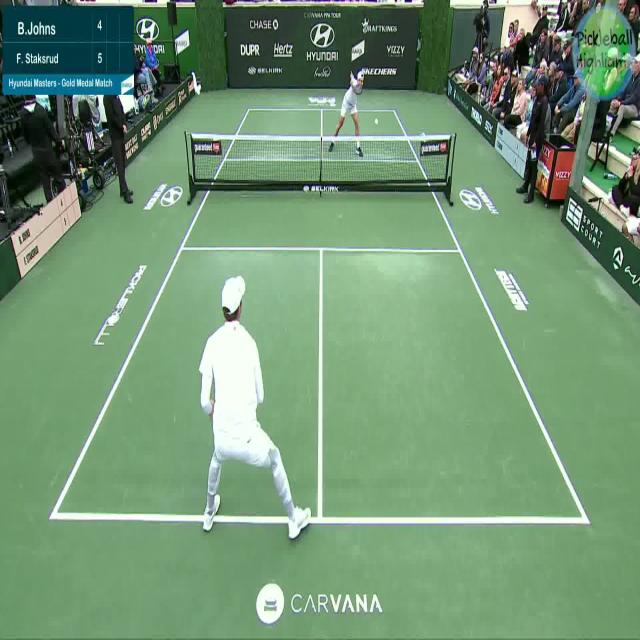ball: (372, 112, 382, 132)
